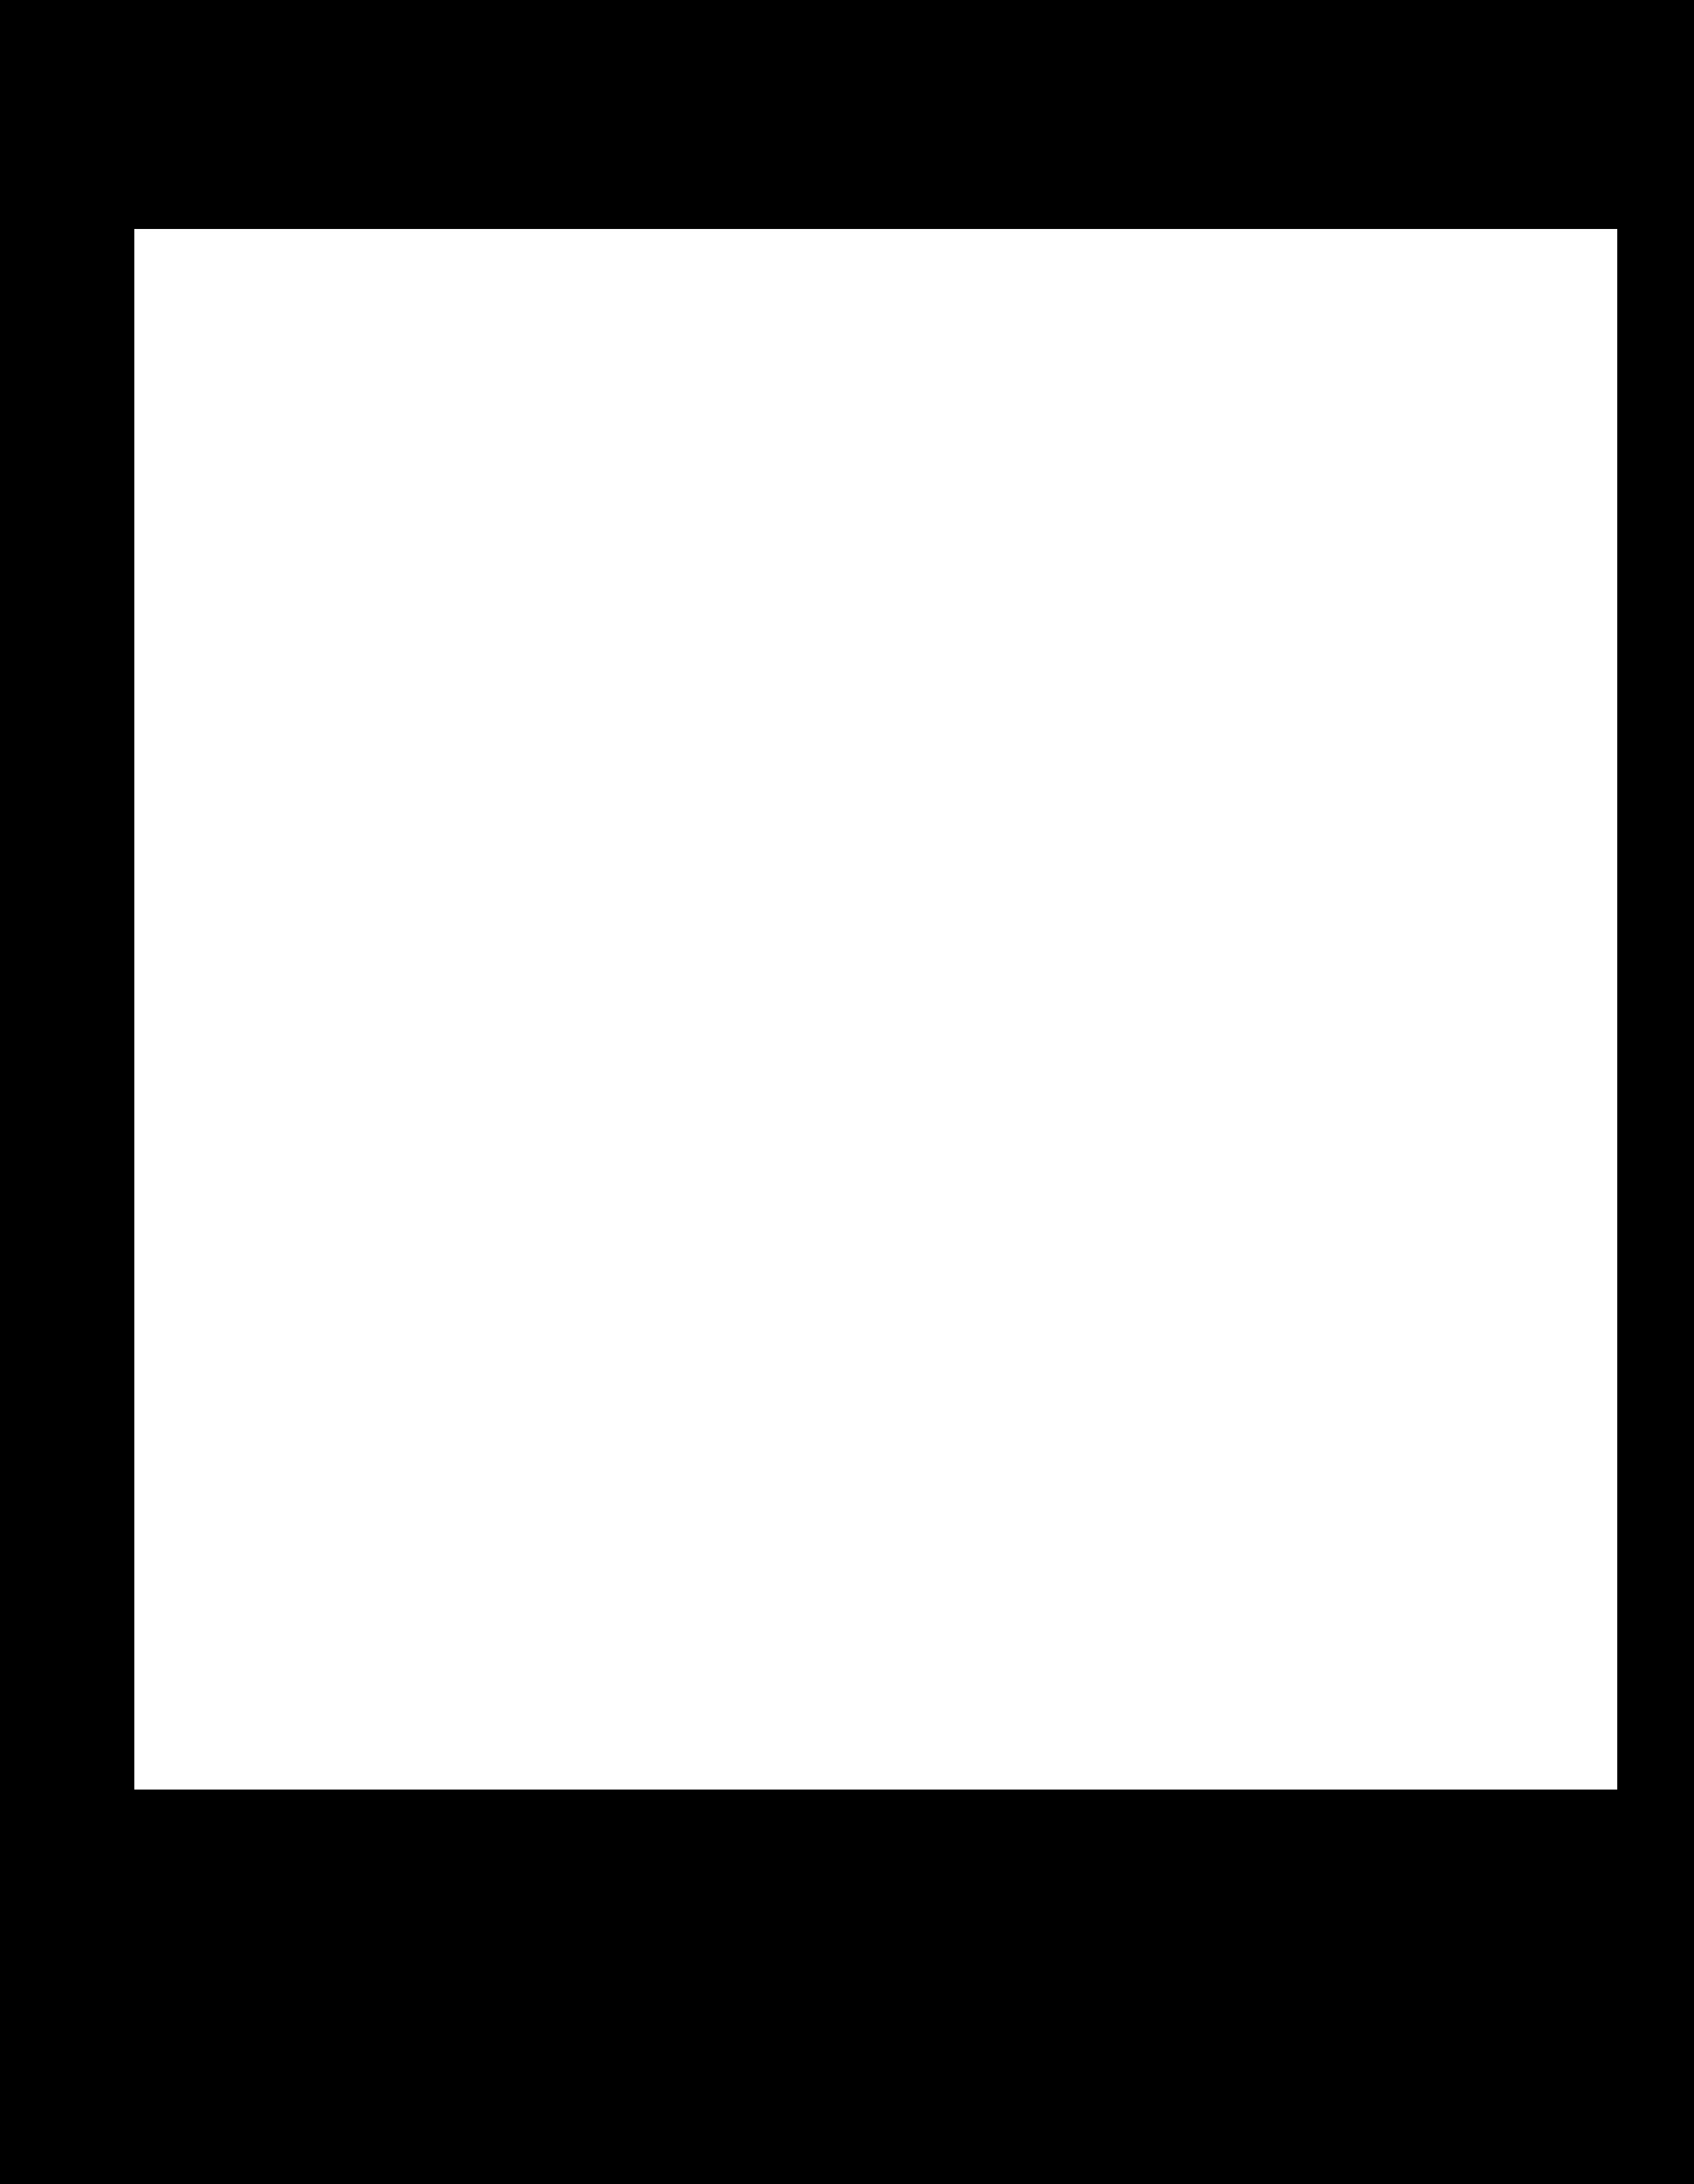table: (135, 229, 1616, 1789)
